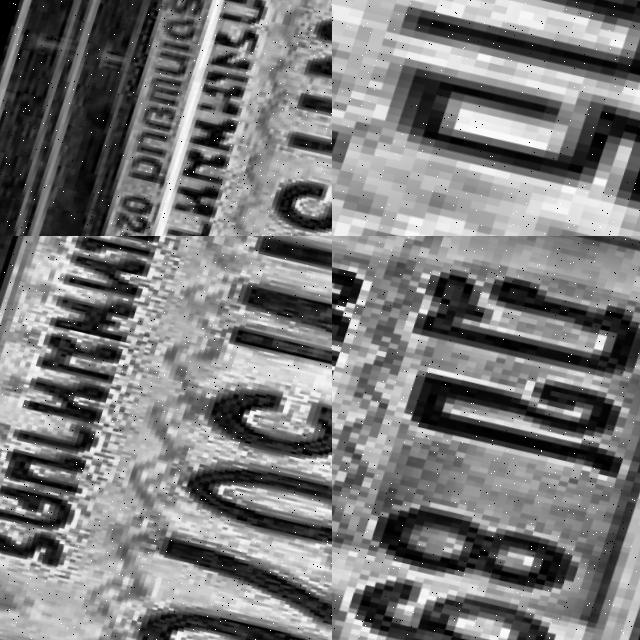license-plate: (0, 236, 332, 640), (332, 236, 640, 640), (19, 0, 332, 236), (332, 0, 640, 236)
